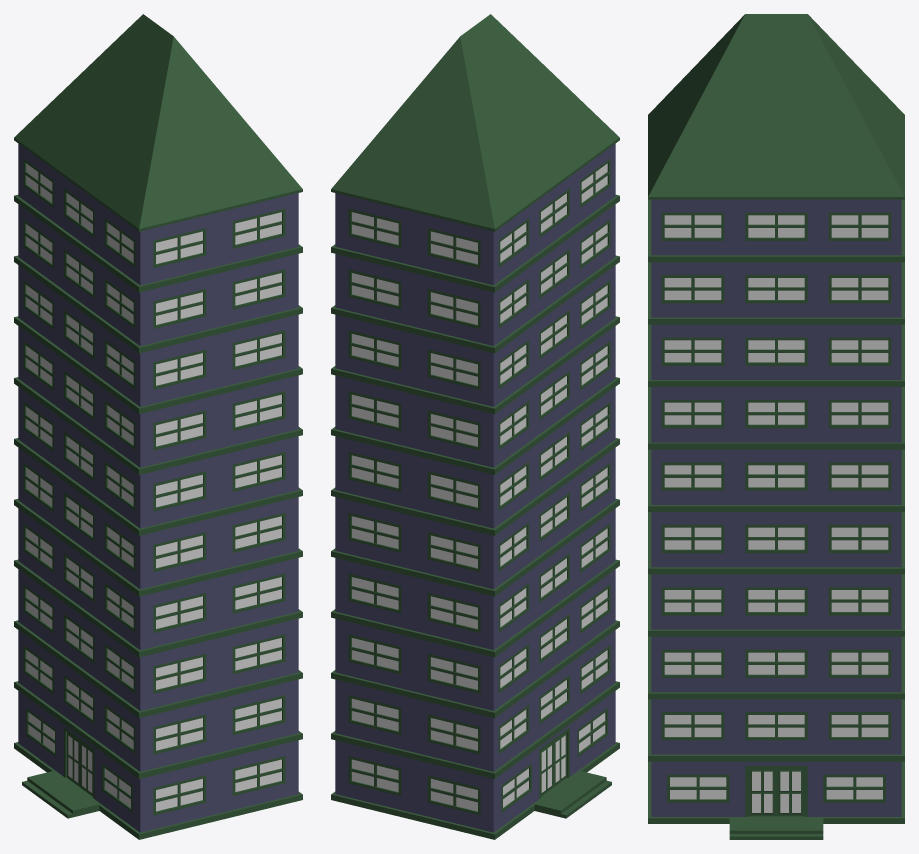
Rendered from business building 25.fbx.
3 views of the same model, side by side, from view 1: azimuth 30°, elevation 25°; view 2: azimuth 150°, elevation 25°; view 3: azimuth 270°, elevation 25° (orthographic). The views are drawn at different scales.
Visible parts, largest first — view 1: building_001; view 2: building_001; view 3: building_001.
Boxes of the visible parts, x1,y1,x2,y2 form: building_001: [14, 14, 302, 839]; building_001: [331, 14, 619, 839]; building_001: [648, 14, 904, 839].
Size of the model in its own units: 860 by 2710 by 820.
